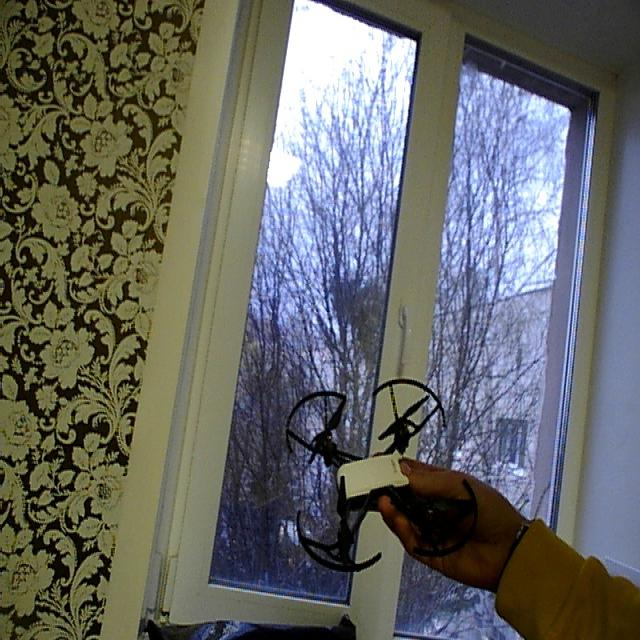drone: (280, 377, 477, 578)
